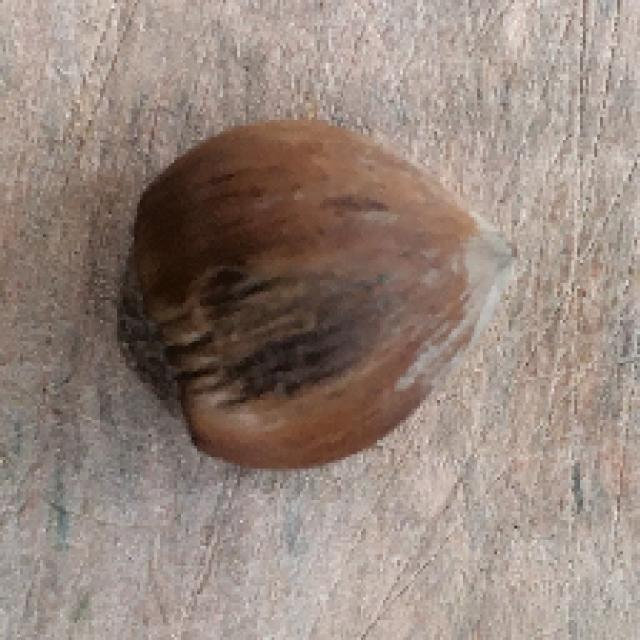DamagedHazelnut: (115, 115, 528, 473)
